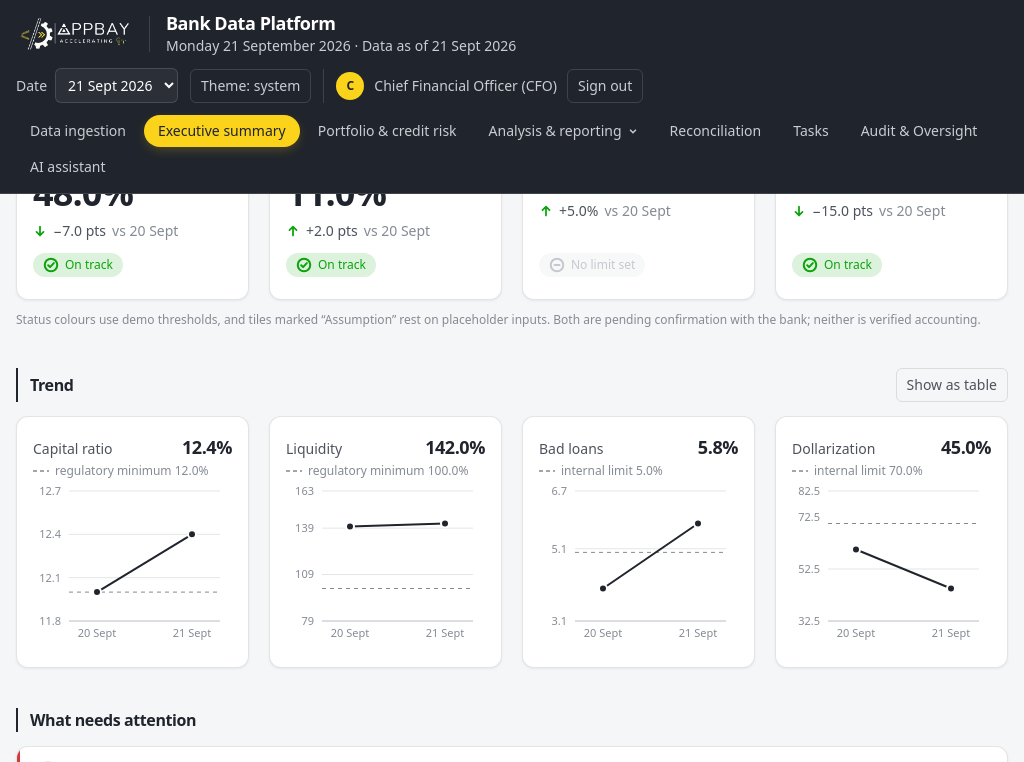
executive summary › offers a table view with every trend value
(page scrolled)
Click the button "Show as table": coordinates (952, 385) 896,368 -> 1008,402
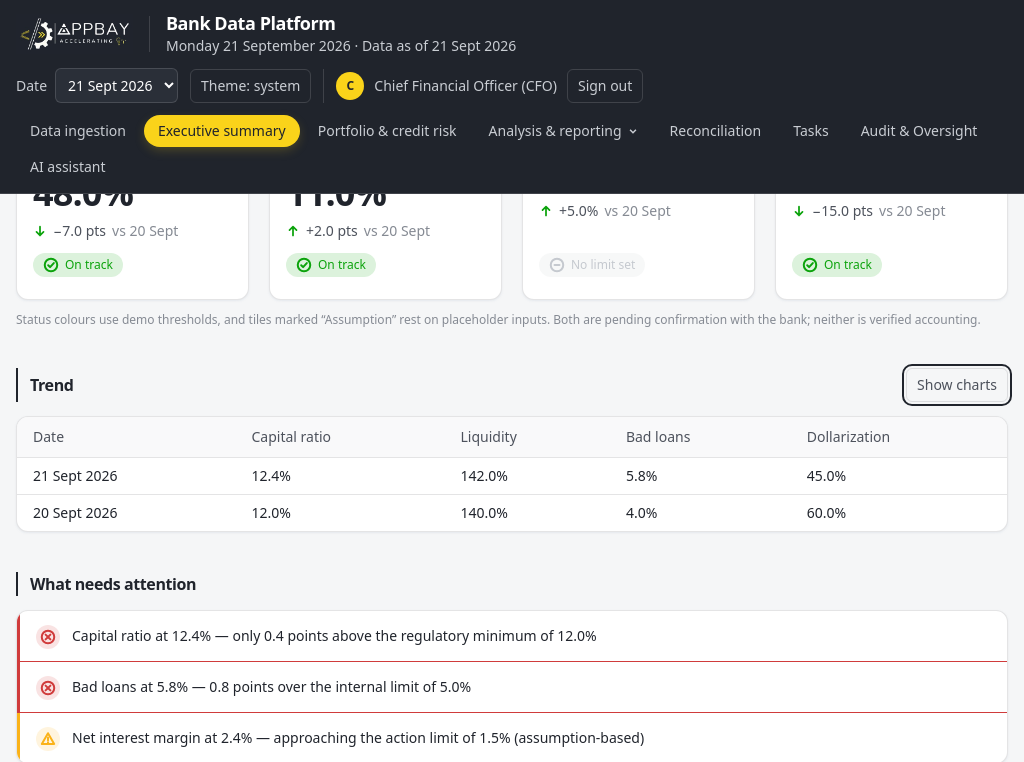
Result: the text "21 Sept 2026" is shown at 17,457 -> 236,494
Result: the text "20 Sept 2026" is shown at 17,494 -> 236,531
Result: the text "12.4%" is shown once at 236,457 -> 445,494
